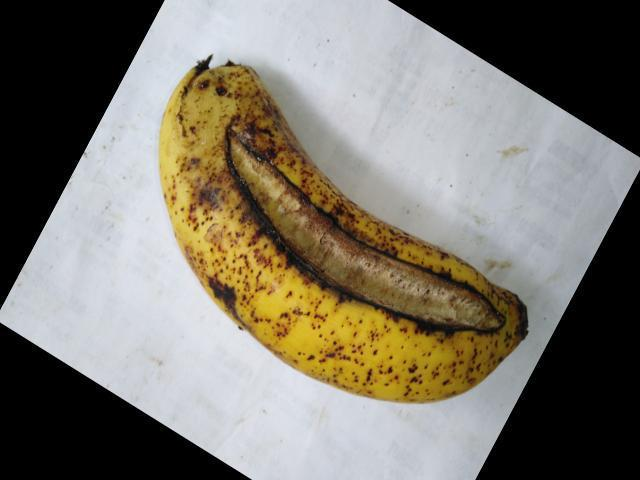rotten: (217, 102, 497, 353)
